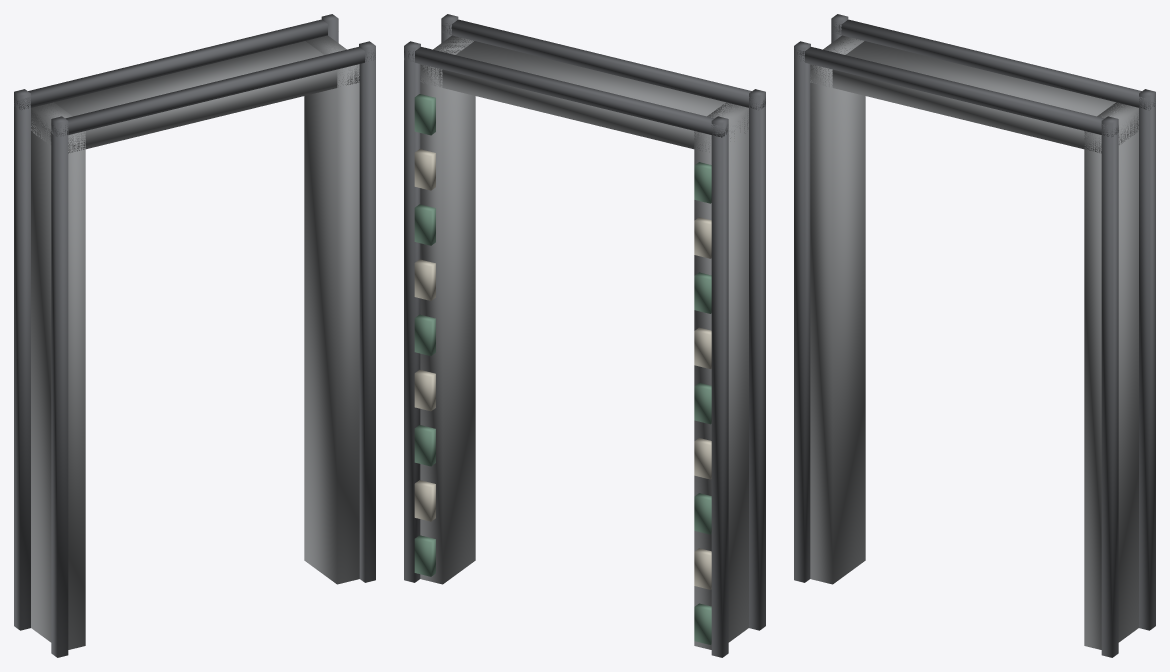
File: doorway_tile_return_w106_h200_d24.glb
3 views of the same model, side by side, from view 1: azimuth 30°, elevation 25°; view 2: azimuth 150°, elevation 25°; view 3: azimuth 330°, elevation 25° (orthographic).
Visible parts, largest first — view 1: world; view 2: world; view 3: world.
Part boxes in pixels (x1,y1,x2,y2): world: [14, 14, 375, 657]; world: [404, 14, 765, 657]; world: [794, 14, 1155, 657].
Size of the model in its own units: 1.34 by 2.15 by 0.3214.
